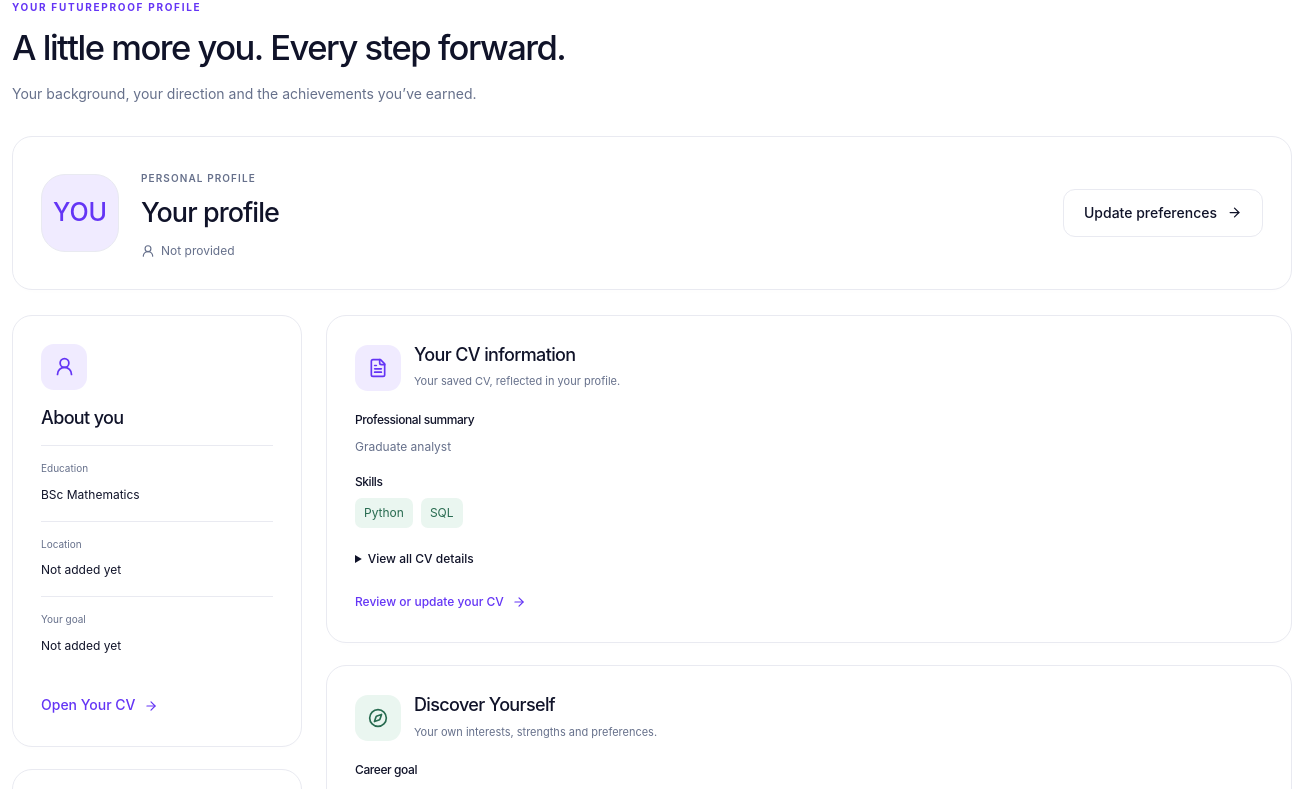
it: keeps About you concise and reflects saved CV information in the profile
Expected: the text "BSc Mathematics" is shown, [41,487,140,502]
Expected: the text "Prepared quarterly reports" is not shown
Click the heading "View all CV details": (421, 558) [368,550,474,566]
(page scrolled)
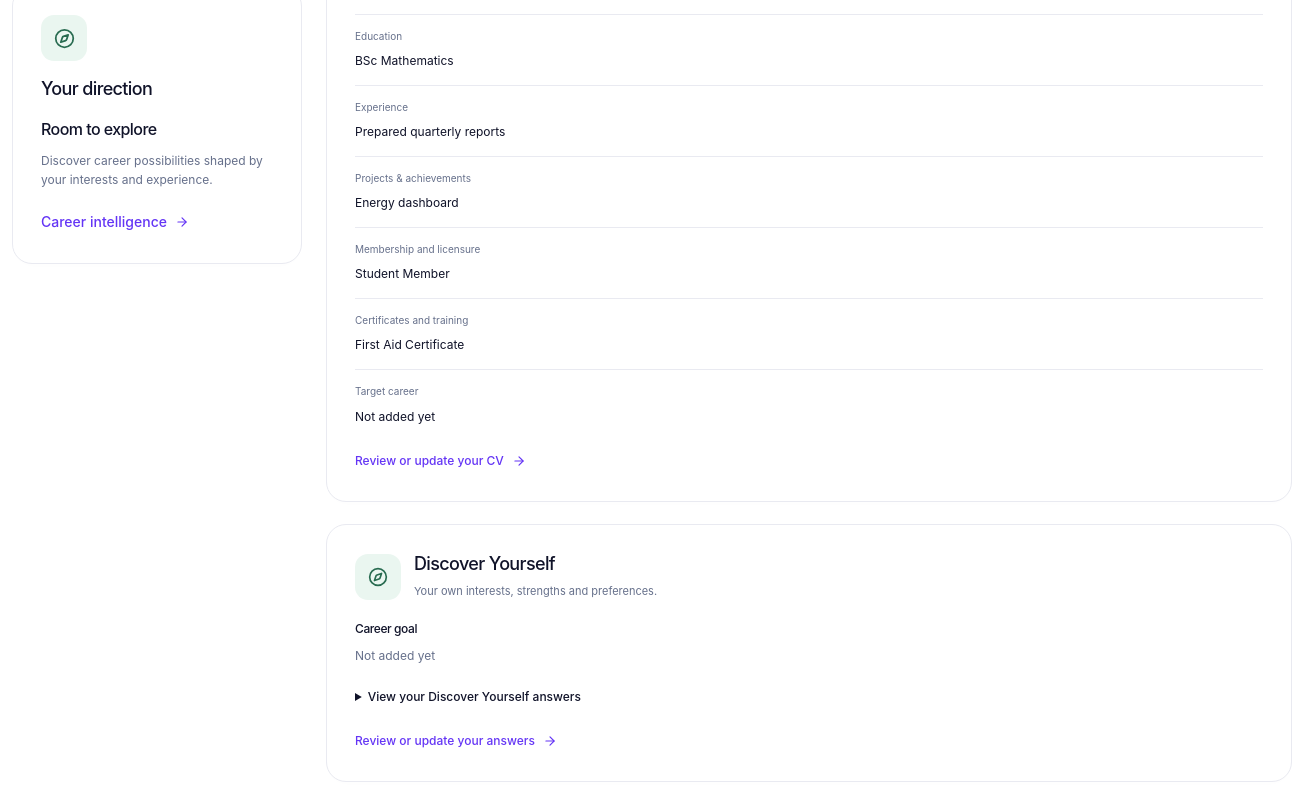
Result: the text "Prepared quarterly reports" is shown at [355,124,505,139]
Result: the text "Energy dashboard" is shown at [355,195,459,210]
Result: the text "Student Member" is shown at [355,266,450,281]
